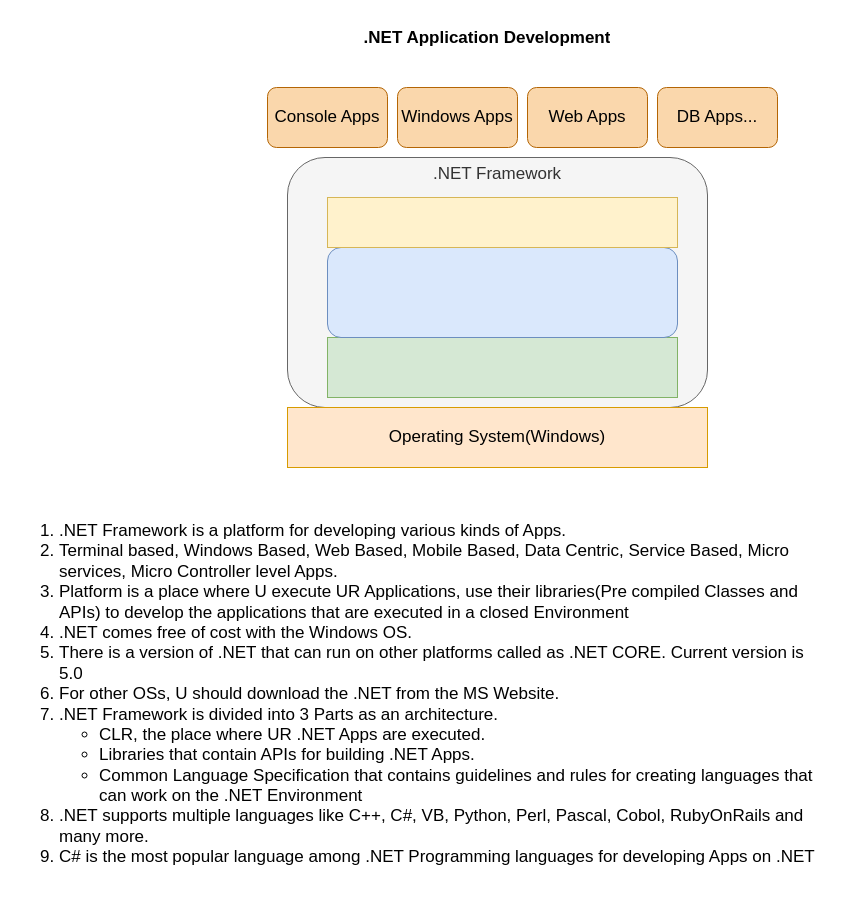
Some shapes in this 844 by 904 pixel diagram are drawn without their labels. The shapes that lost their labels are listed below. From the top down, each one's centre as x and y in pixels, then its label:
At point (502, 222): "Common Language Specification".
At point (502, 292): "Framework Class Libraries(FCL)".
At point (502, 367): "Common Language Runtime(CLR)".
